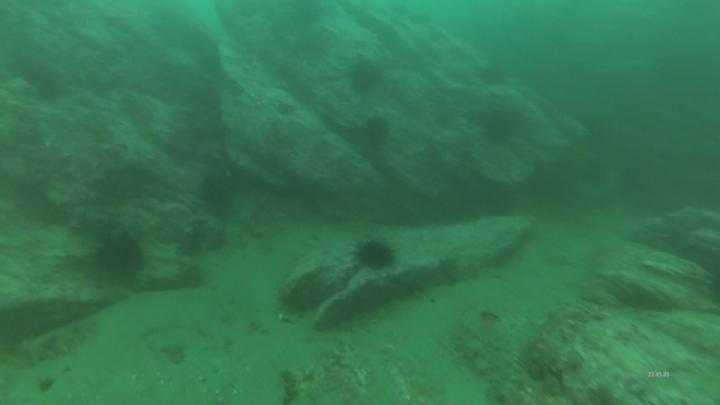echinus: (95, 228, 147, 279), (351, 238, 397, 274), (198, 174, 233, 217), (482, 110, 520, 149), (347, 58, 381, 96), (473, 63, 511, 91), (365, 115, 391, 147), (292, 1, 325, 24)
holothurian: (17, 316, 100, 373), (263, 140, 314, 165)
